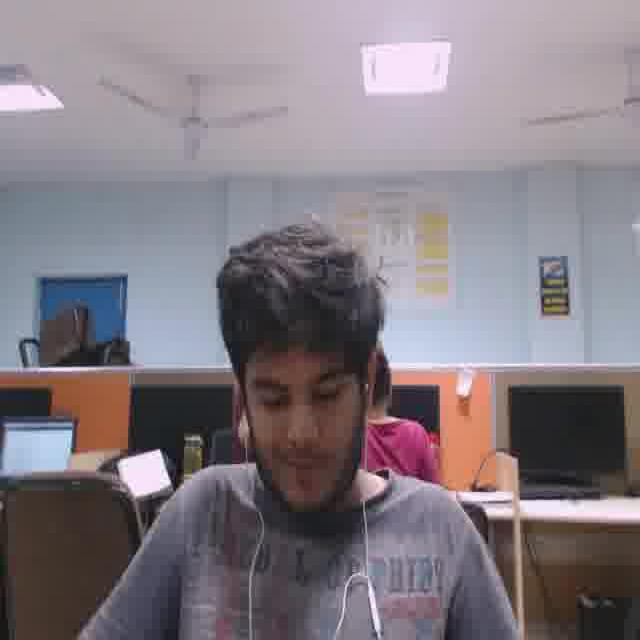Boredom: (239, 334, 352, 502)
